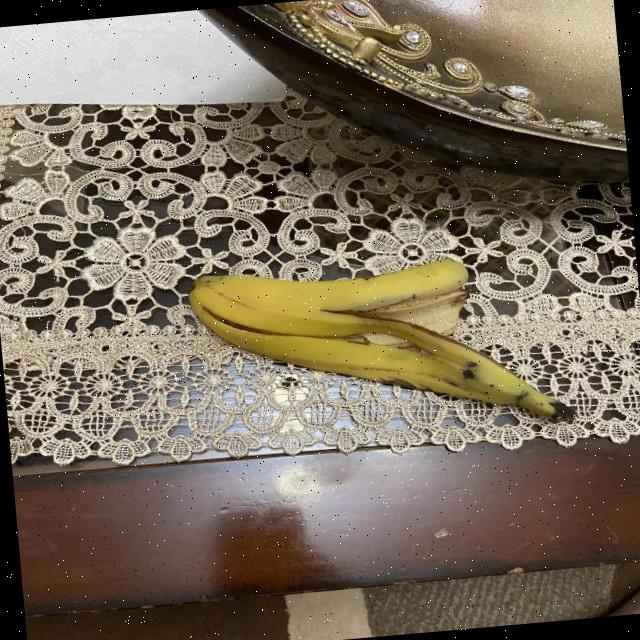banana-peel: (184, 241, 572, 451)
